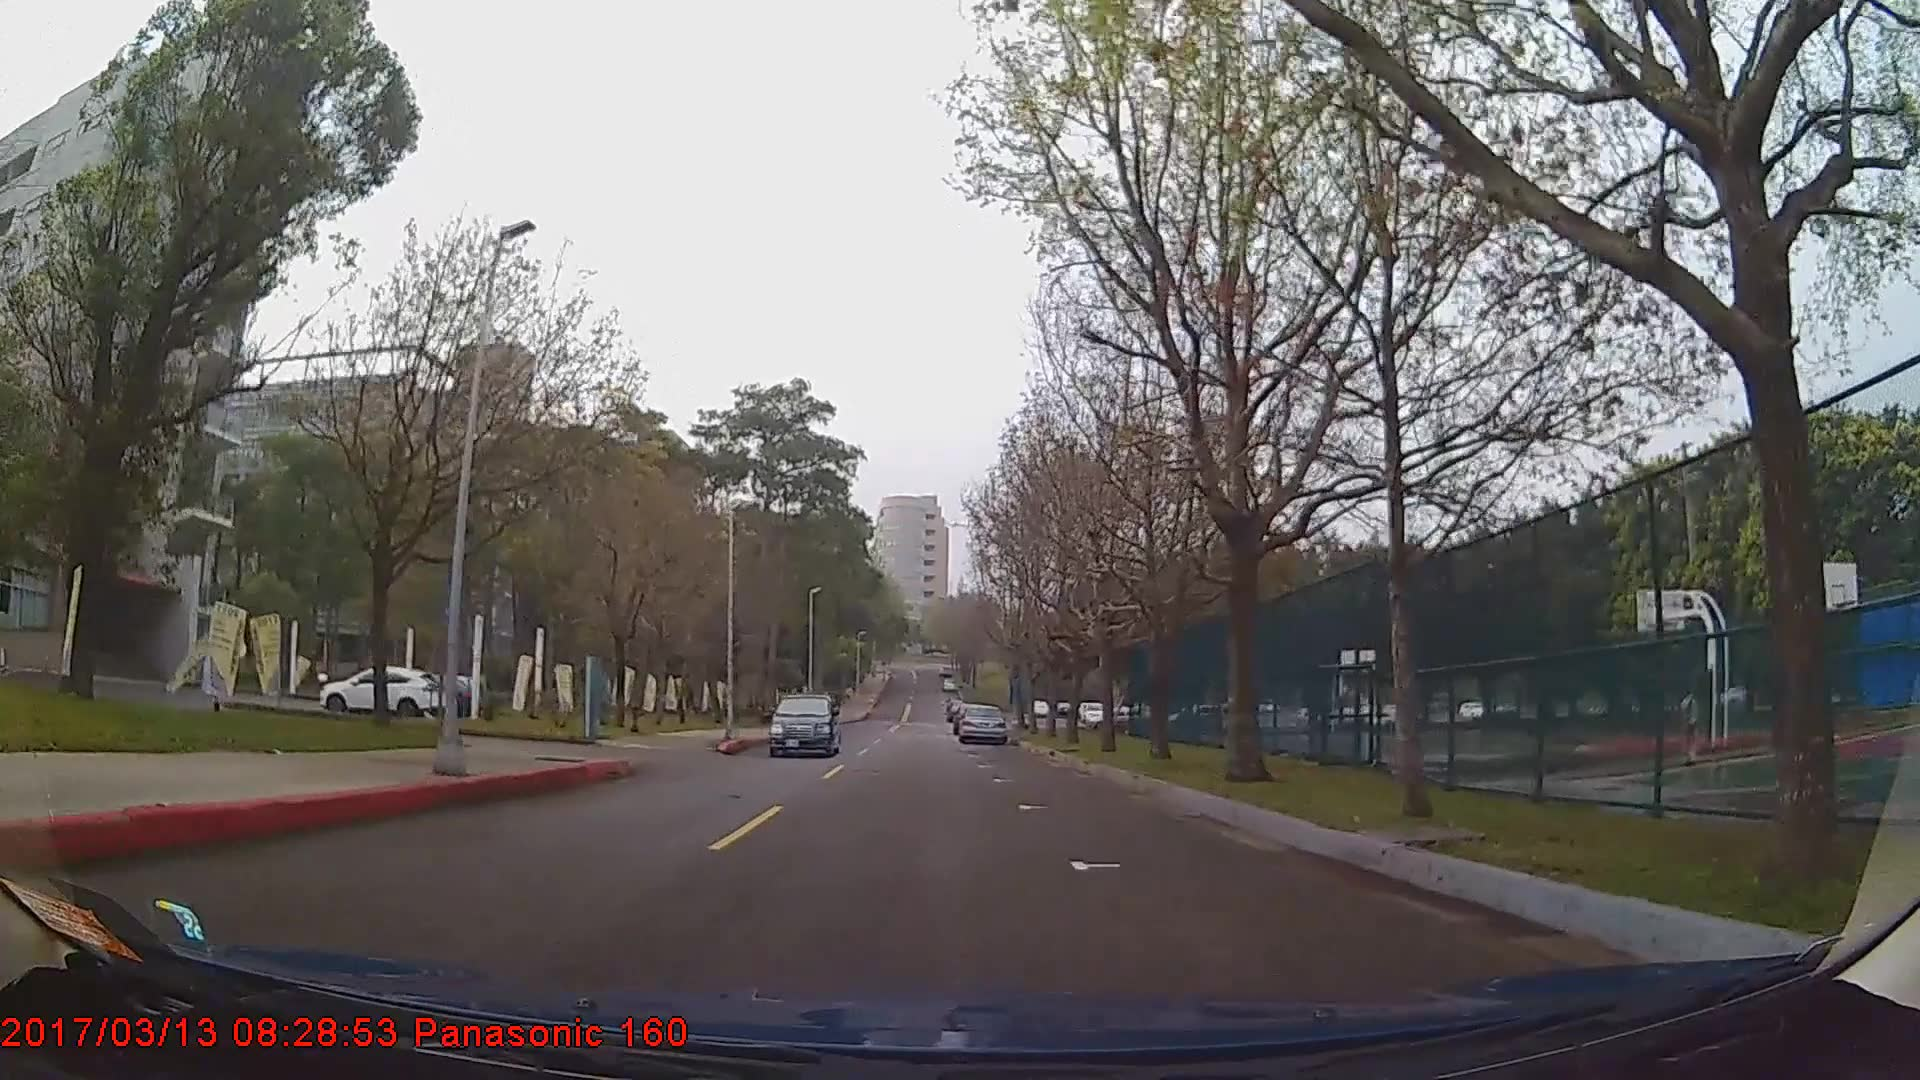vehicle: (316, 663, 447, 720), (765, 692, 837, 757), (956, 702, 1004, 744)
